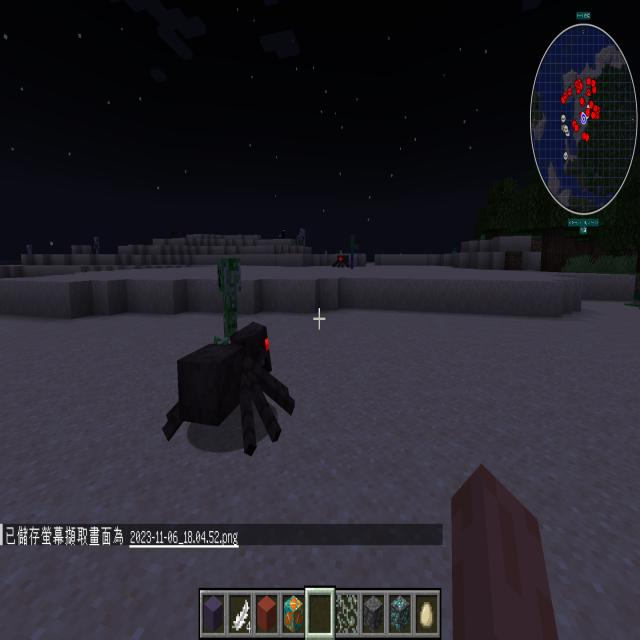Creeper: (205, 251, 253, 365), (296, 234, 300, 247), (480, 234, 487, 241), (339, 249, 343, 255), (324, 250, 328, 255)
Enderman: (282, 228, 286, 240)
Skeleton: (92, 235, 102, 255), (25, 242, 34, 257), (298, 227, 304, 248), (302, 228, 307, 248)
Spider: (157, 315, 297, 469), (332, 254, 350, 270), (169, 230, 182, 240)
Zombie: (348, 233, 359, 270), (452, 246, 458, 255)
